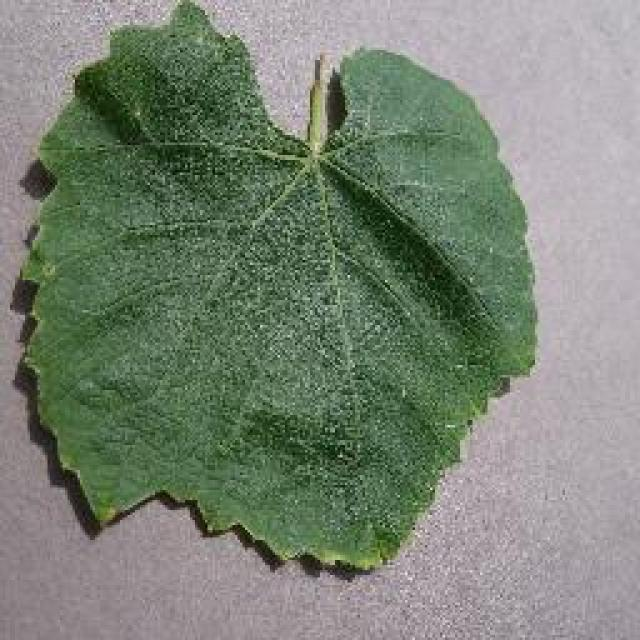Grape___healthy: (22, 0, 532, 568)
